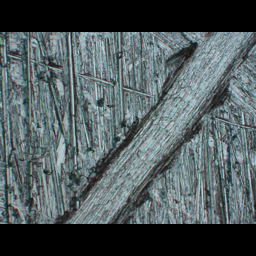d: (48, 32, 256, 223)
